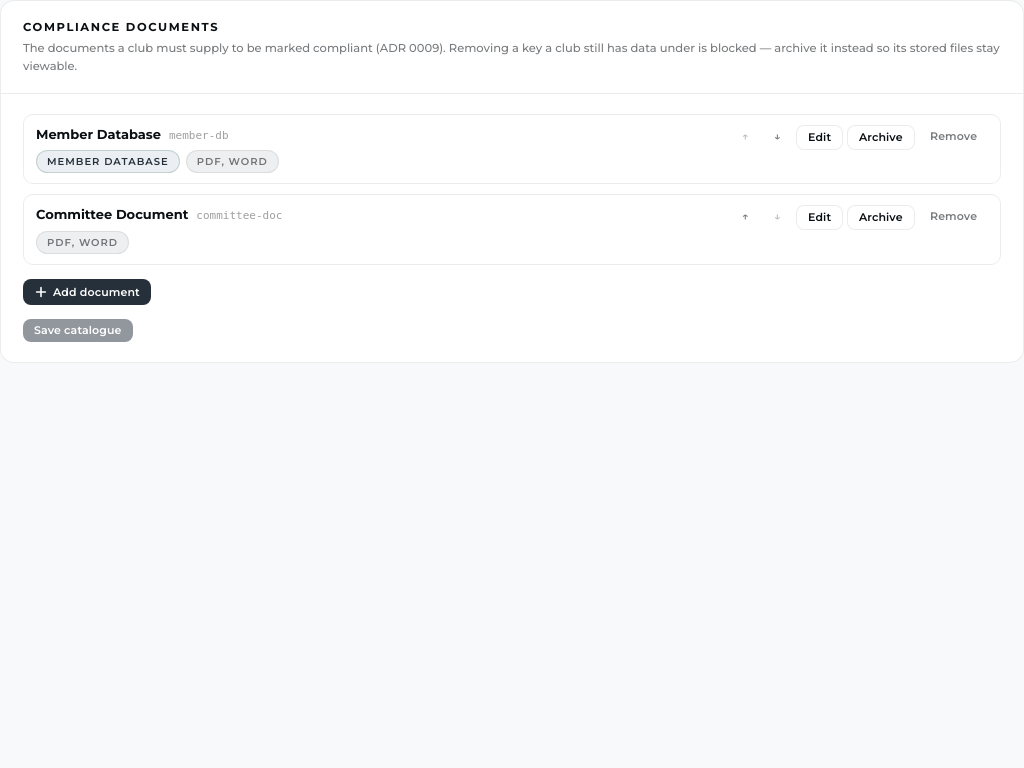
it: RequiredDocsCard — Role picker › renders an InfoTip explaining what the role drives
Click the button "Edit" in the row of "committee-doc".
click(820, 218)  # box [796,205,843,230]
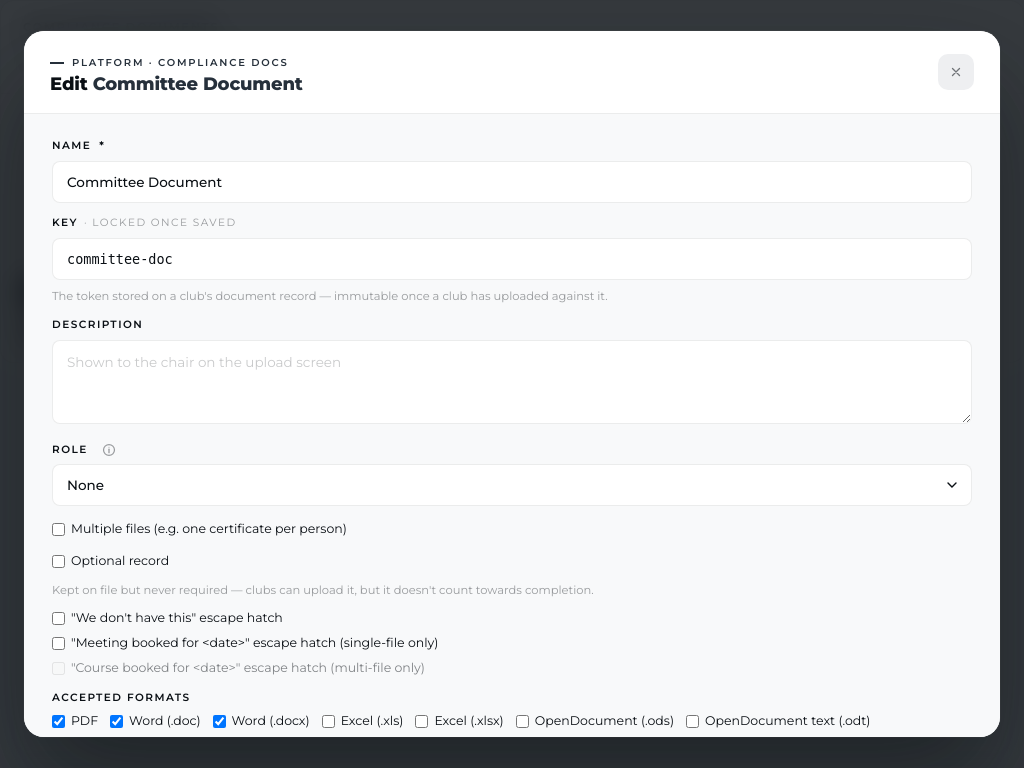
Check: the button named "why does the role matter" is shown, box [96,436,122,462]
